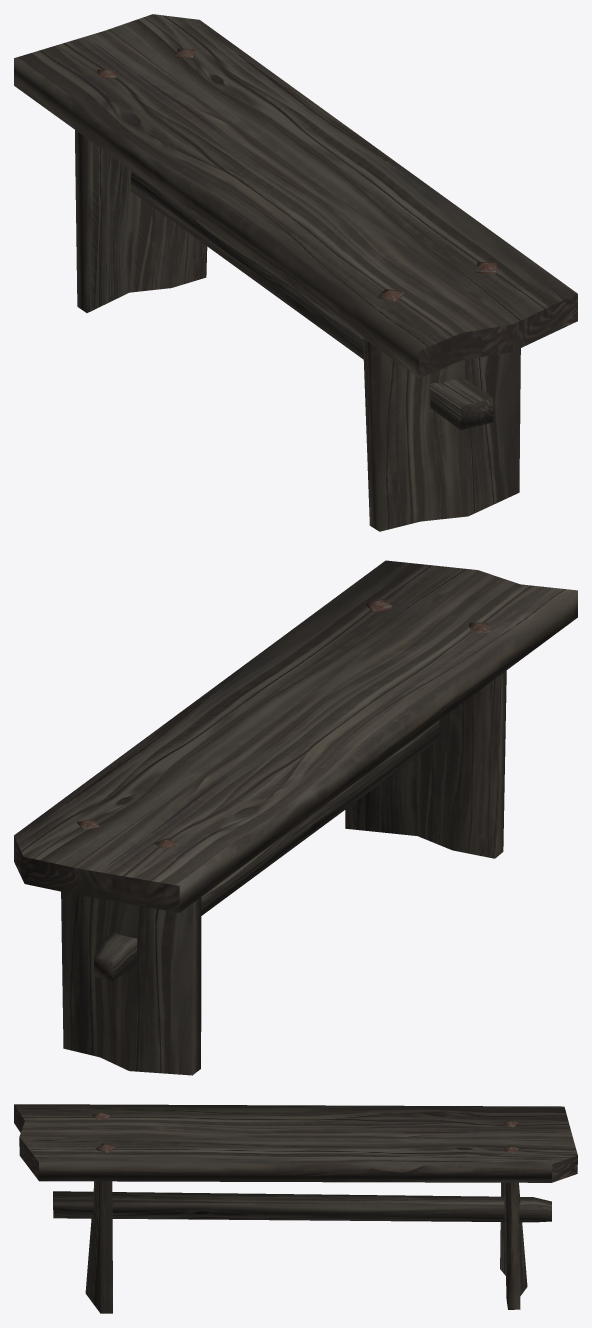
Rendered from Bench.fbx.
The picture shows the model from 3 angles, top to bottom: view 1: azimuth 30°, elevation 25°; view 2: azimuth 150°, elevation 25°; view 3: azimuth 270°, elevation 25°; orthographic projection. The views are drawn at different scales.
Parts seen in each view (by area): view 1: Bench; view 2: Bench; view 3: Bench.
Part boxes in pixels (x1,y1,x2,y2): Bench: (14,14,577,531); Bench: (14,560,577,1075); Bench: (14,1104,577,1313).
Size of the model in its own units: 0.868 by 1.1 by 3.51.
